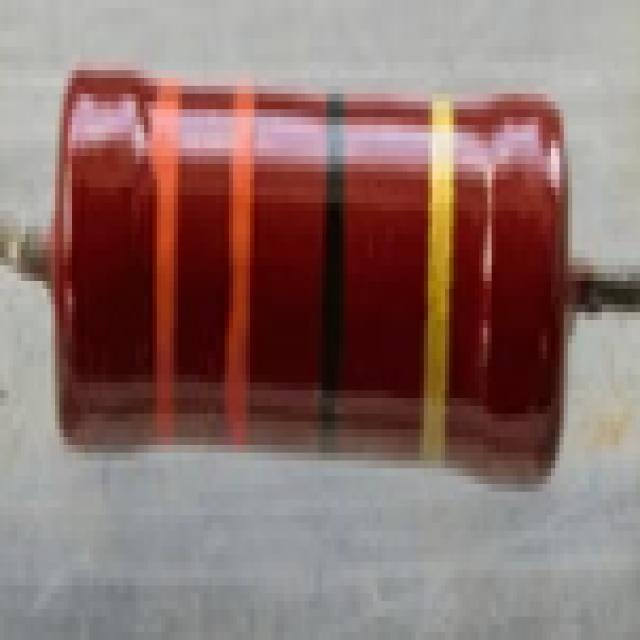Resistor: (25, 70, 564, 484)
black: (318, 79, 351, 483)
gold: (424, 102, 453, 460)
orange: (149, 86, 182, 437), (225, 86, 254, 444)
